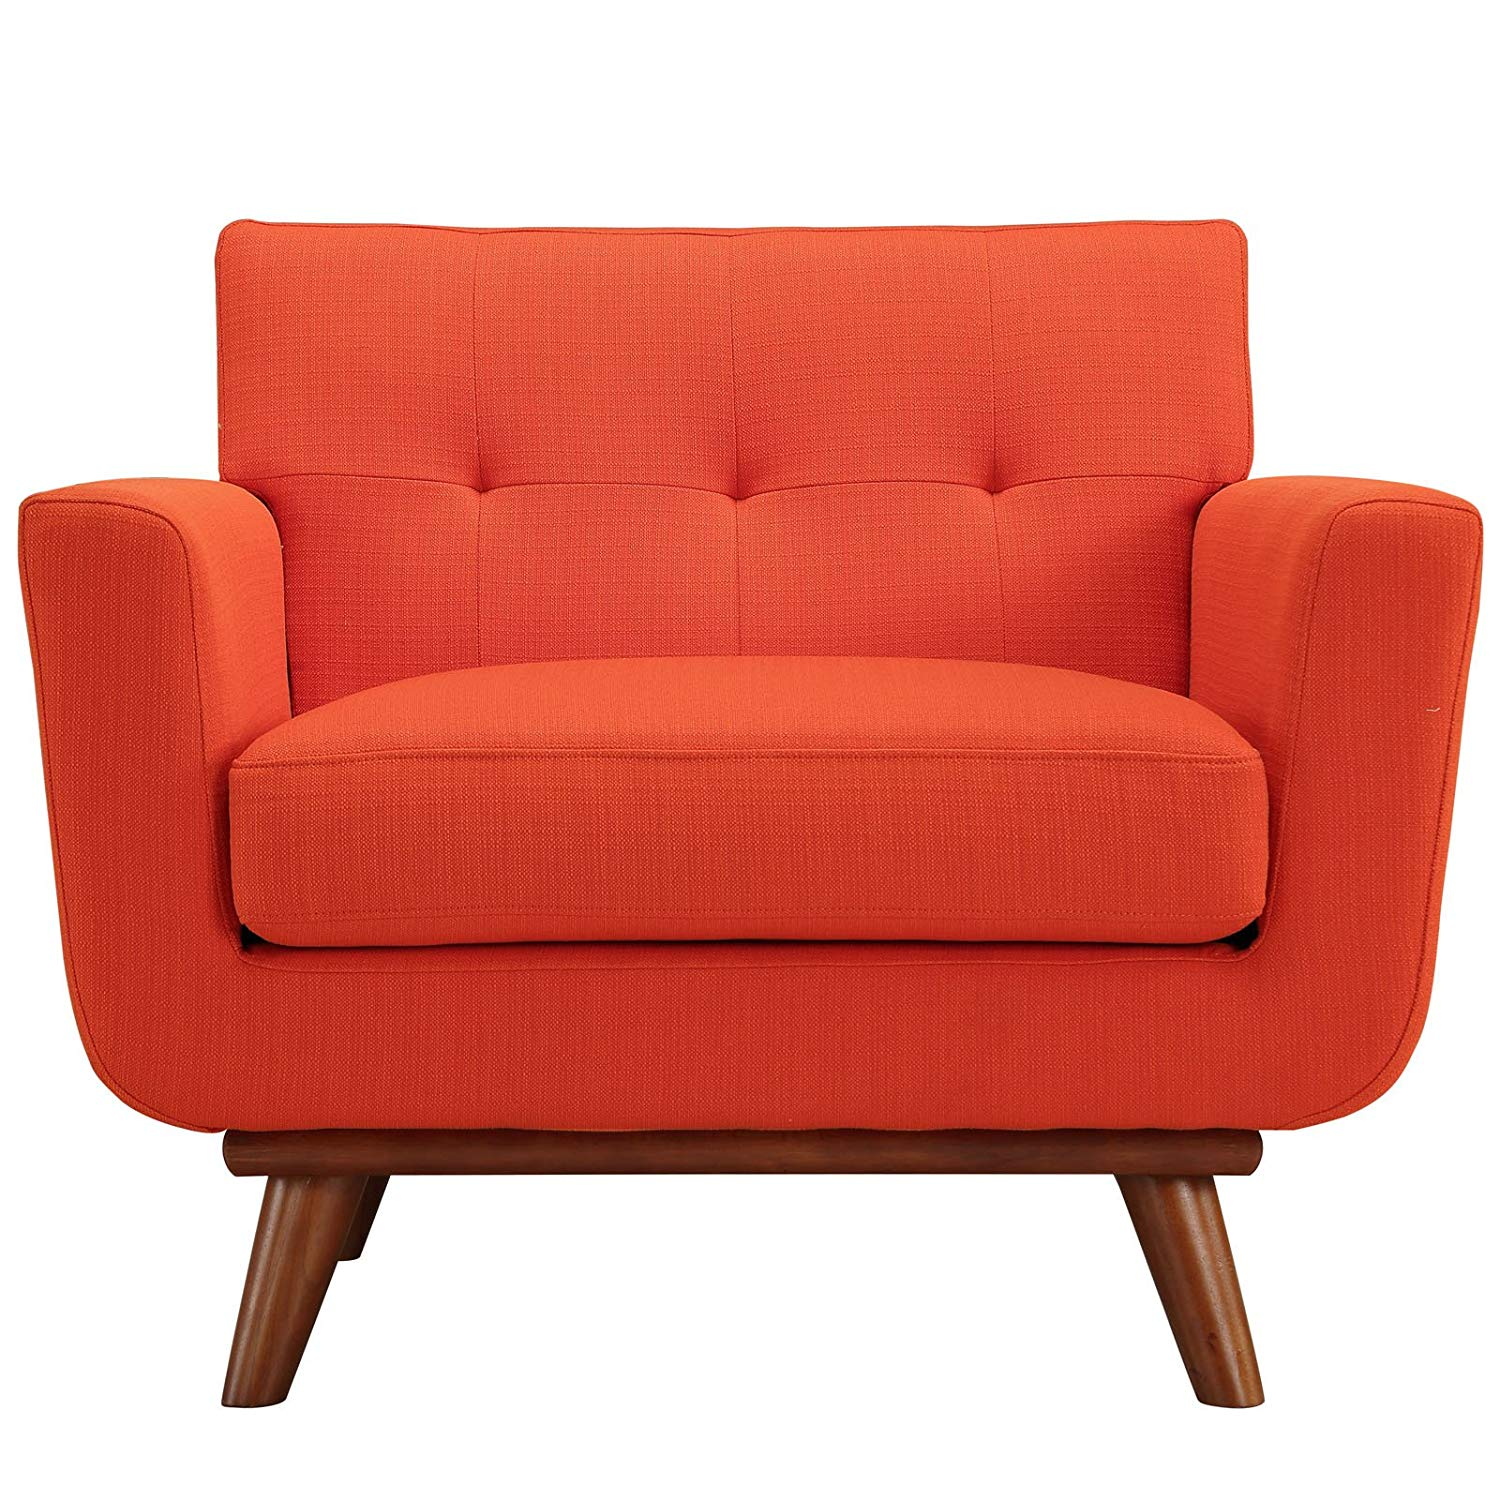chairs: (16, 212, 1484, 1412)
